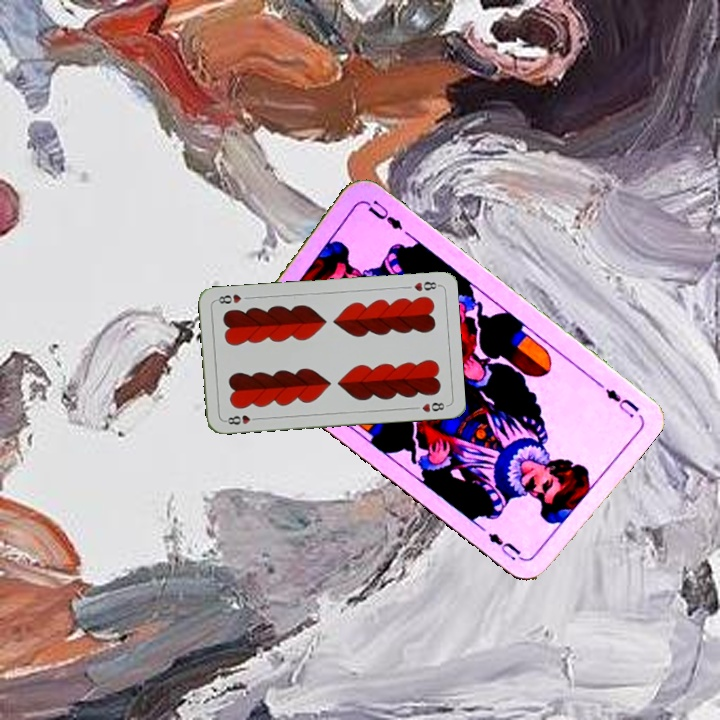EU: (601, 384, 642, 421)
H8: (221, 411, 261, 427), (401, 278, 441, 294)
